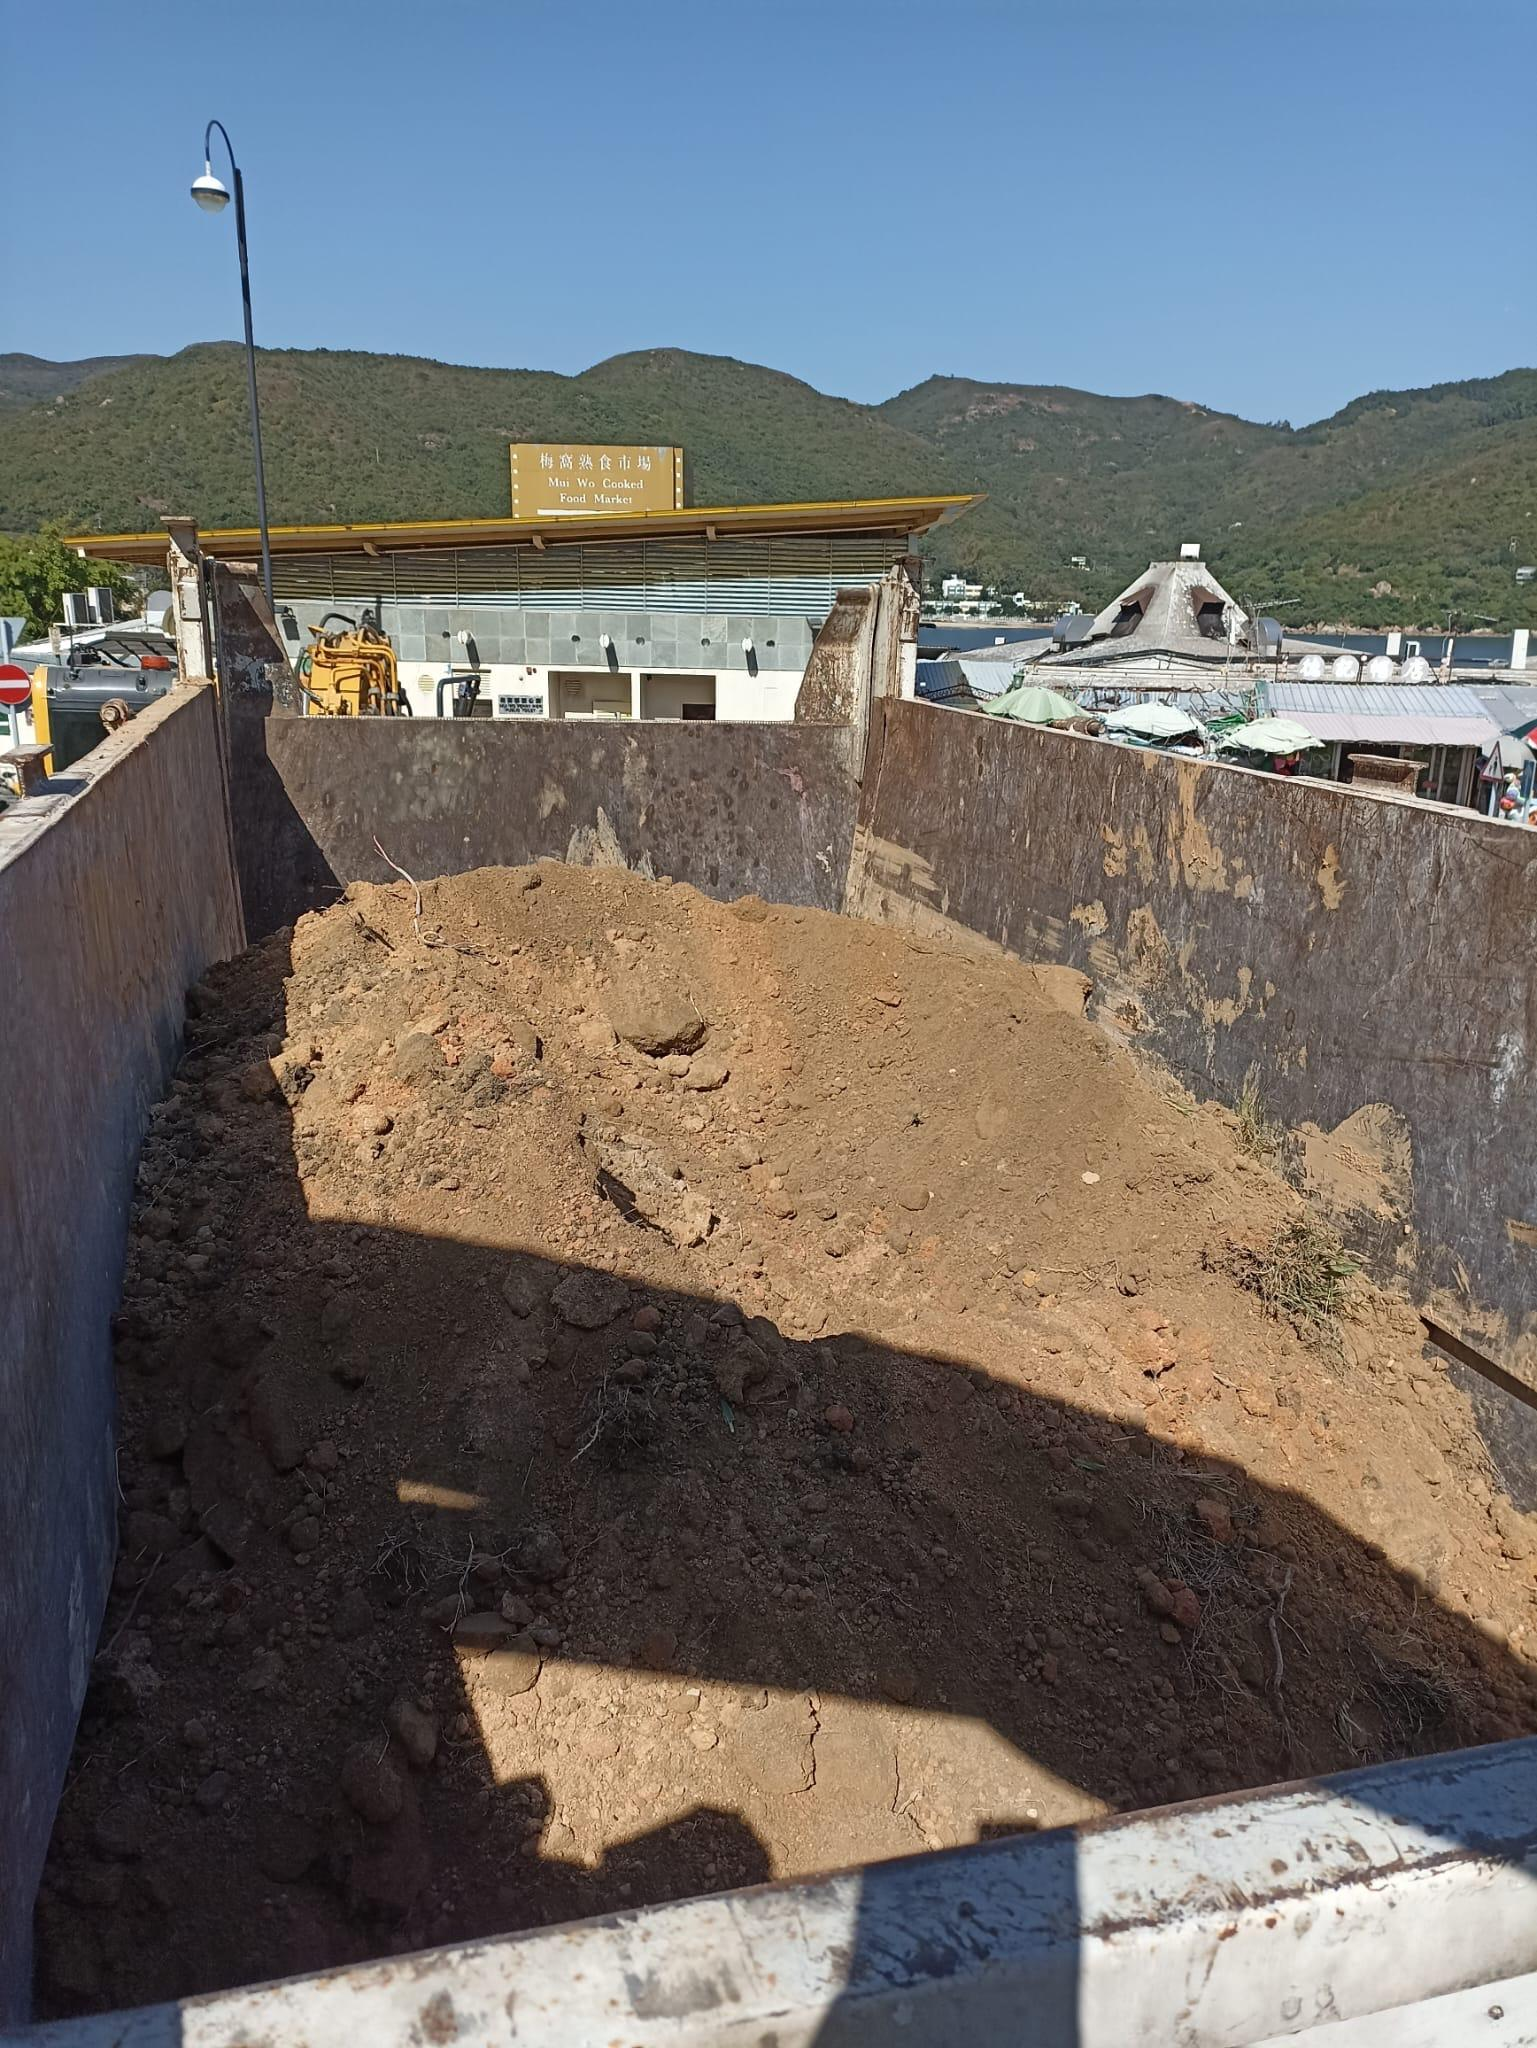dirt: (32, 855, 1534, 2019)
